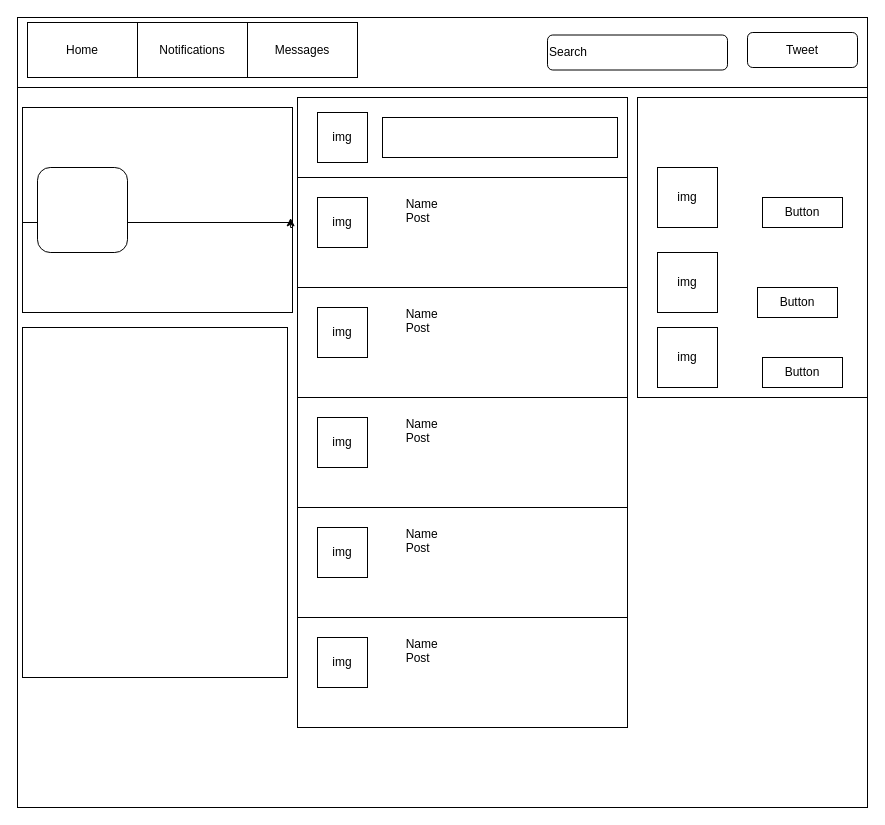
The diagram is 885 pixels wide and 825 high, and some of its shapes have lost their labels. Here are the shapes that lost their labels. From the top down, the box of each, then its label:
(16, 16, 868, 88): Header
(382, 116, 618, 158): What's Happening?
(36, 166, 128, 252): Picture
(22, 222, 292, 312): Name Tweets Following Followers
(636, 96, 868, 398): add Friends Name Name Name
(22, 326, 288, 678): Information
